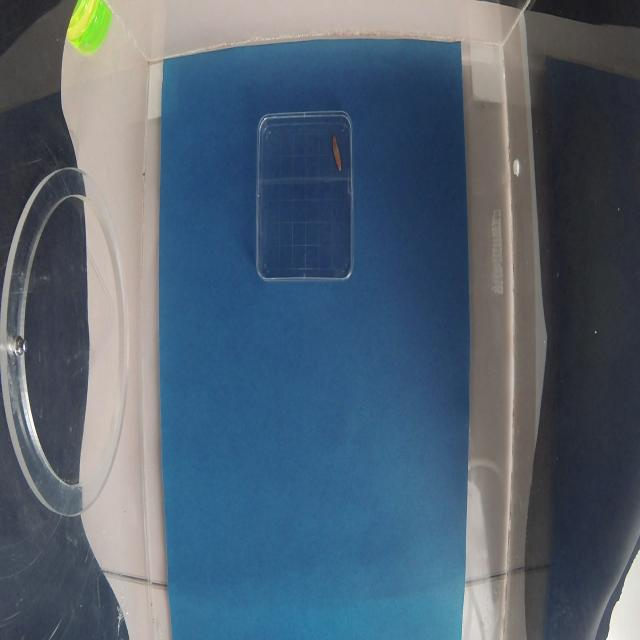larva: (333, 137, 343, 174)
